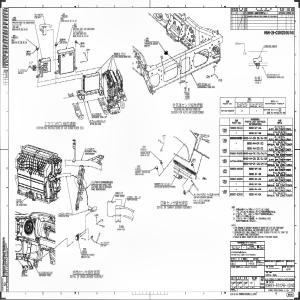PartNumber: (221, 109, 234, 113), (230, 126, 243, 130), (229, 152, 242, 156), (230, 177, 243, 181), (230, 136, 242, 140), (230, 160, 243, 163), (230, 193, 243, 196), (230, 168, 243, 170)
